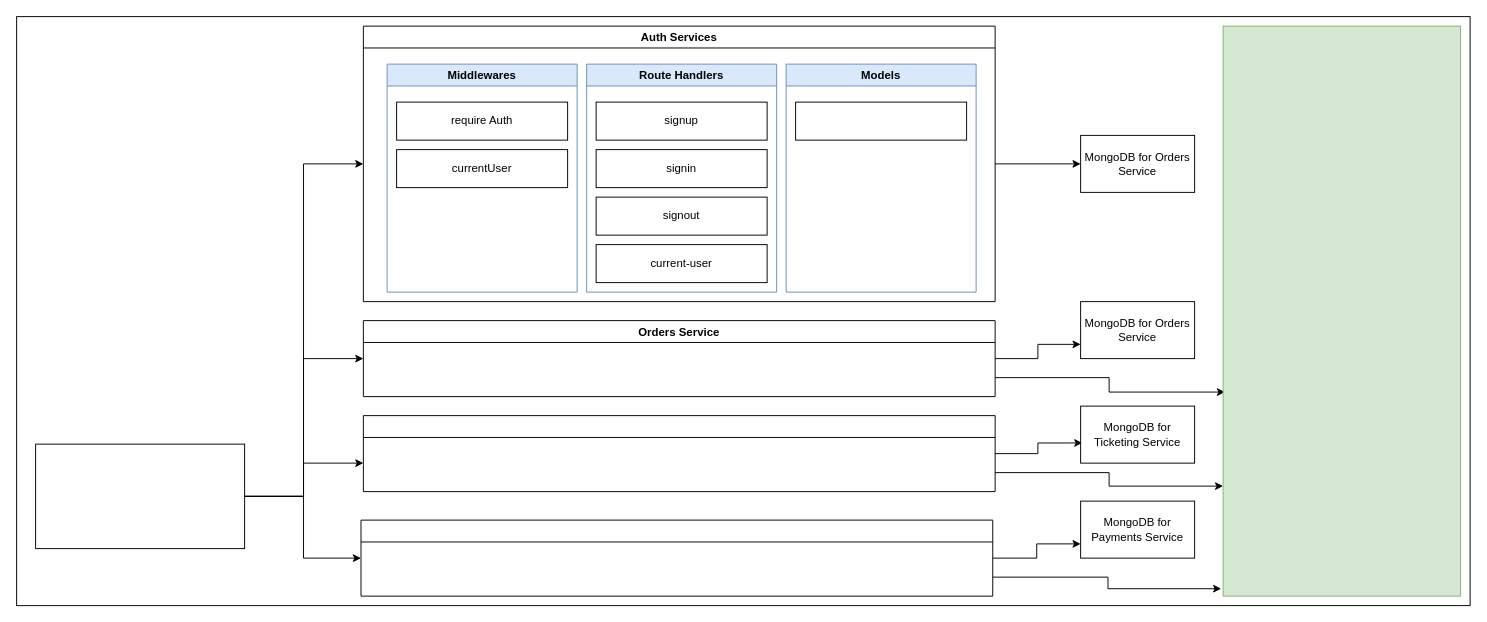
The diagram is 1487 pixels wide and 622 high, and some of its shapes have lost their labels. The shapes that lost their labels are listed below. From the top down, each one's centre as x and y in pixels, then its label:
At (x=881, y=120): "User".
At (x=1341, y=310): "Event Bus".
At (x=678, y=453): "Ticketing Service".
At (x=140, y=496): "Ingress-Nginx".
At (x=676, y=557): "Payments Service".
